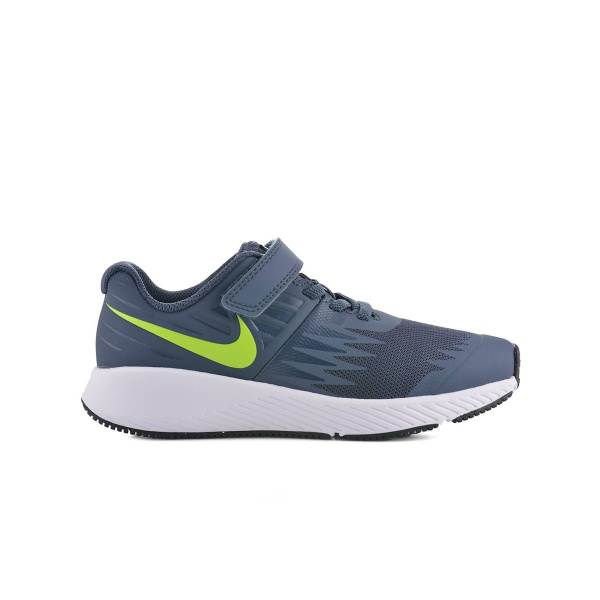nike: (107, 303, 265, 376)
